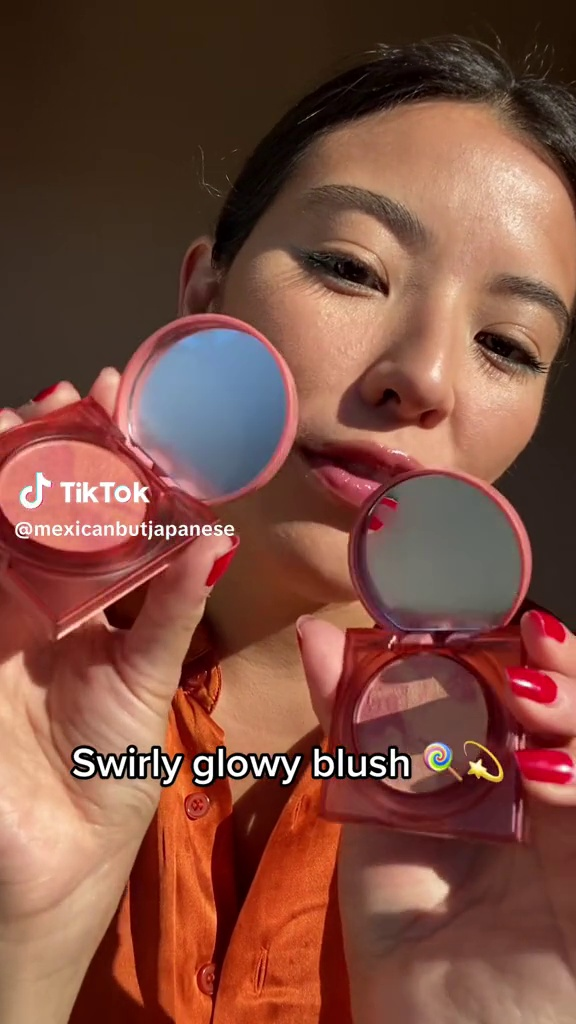train' :'yolo_data/train/images',: (0, 307, 306, 649), (314, 461, 550, 848)
